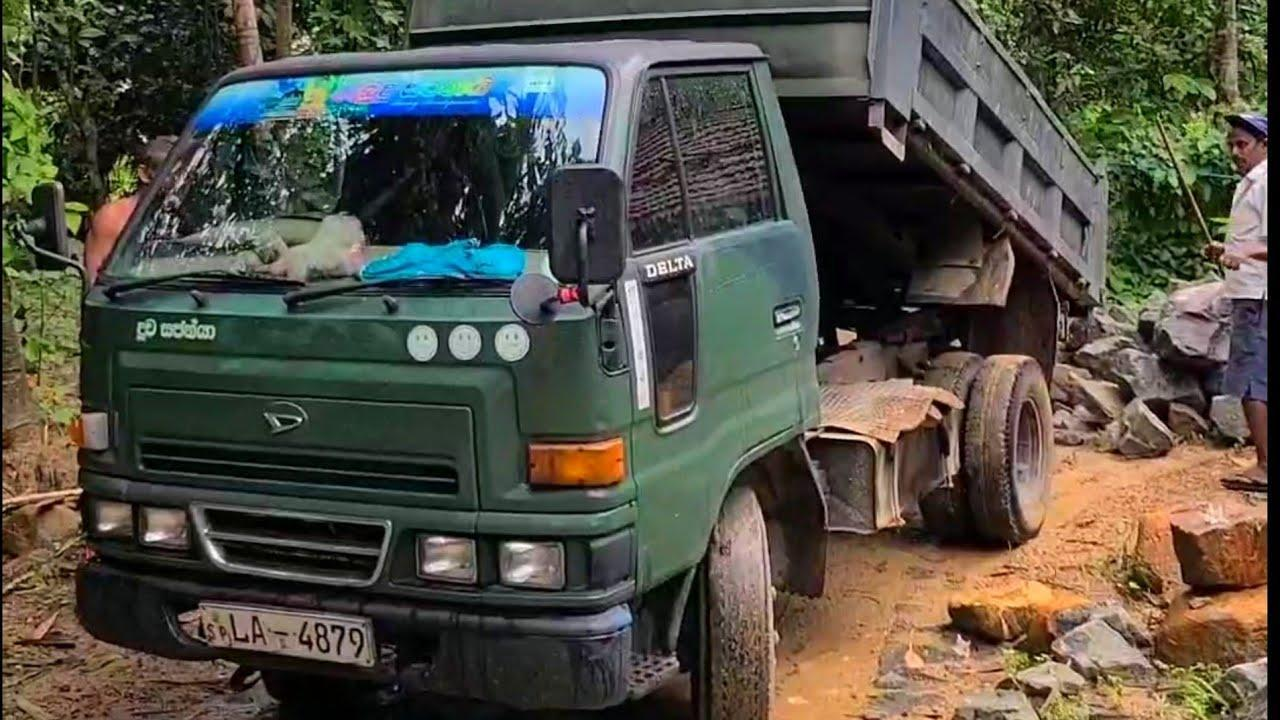truck: (28, 13, 1111, 720)
